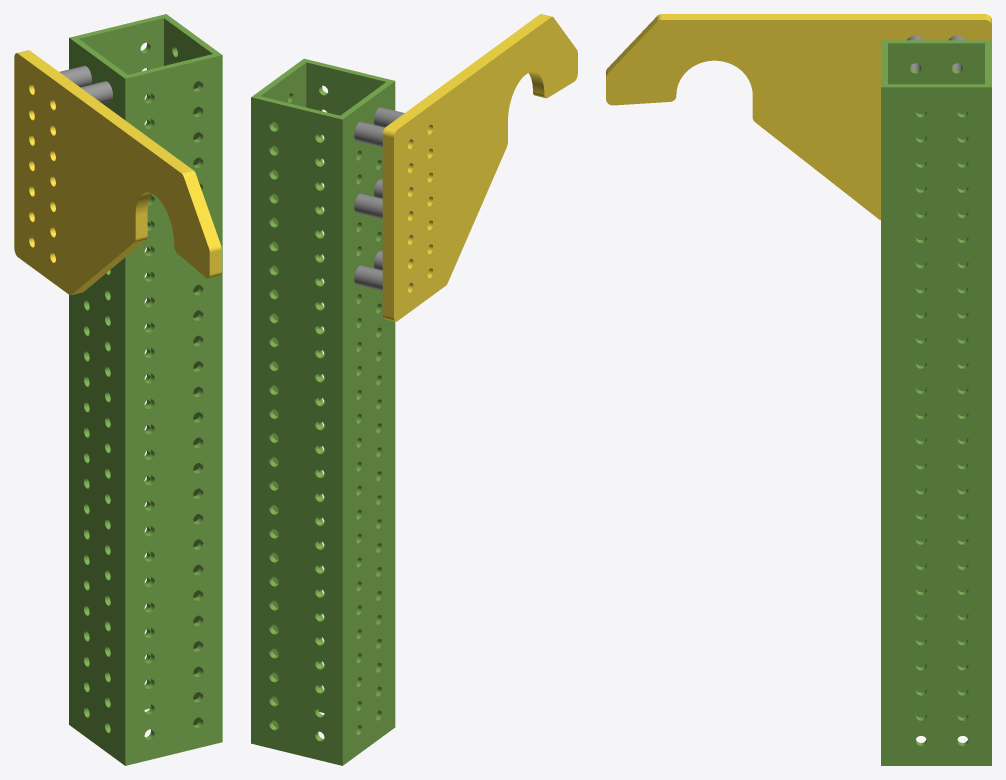
The picture shows the model from 3 angles, left to right: view 1: azimuth 30°, elevation 25°; view 2: azimuth 150°, elevation 25°; view 3: azimuth 270°, elevation 25°; orthographic projection. The views are drawn at different scales.
Parts seen in each view (by area): view 1: Tube 2"x2"x13.5", Part 4, Climb Hook Spacer (×2); view 2: Tube 2"x2"x13.5", Part 4, Climb Hook Spacer (×3); view 3: Tube 2"x2"x13.5", Part 4.
Boxes of the visible parts, x1,y1,x2,y2 form: Tube 2"x2"x13.5": (69, 14, 222, 765); Part 4: (14, 50, 221, 295); Climb Hook Spacer (×2): (59, 65, 112, 103); Tube 2"x2"x13.5": (251, 58, 395, 765); Part 4: (382, 14, 577, 321); Climb Hook Spacer (×3): (354, 121, 384, 290); Tube 2"x2"x13.5": (881, 40, 991, 765); Part 4: (606, 14, 991, 220).
Size of the model in its own units: 0.0794 by 0.3429 by 0.1767.
